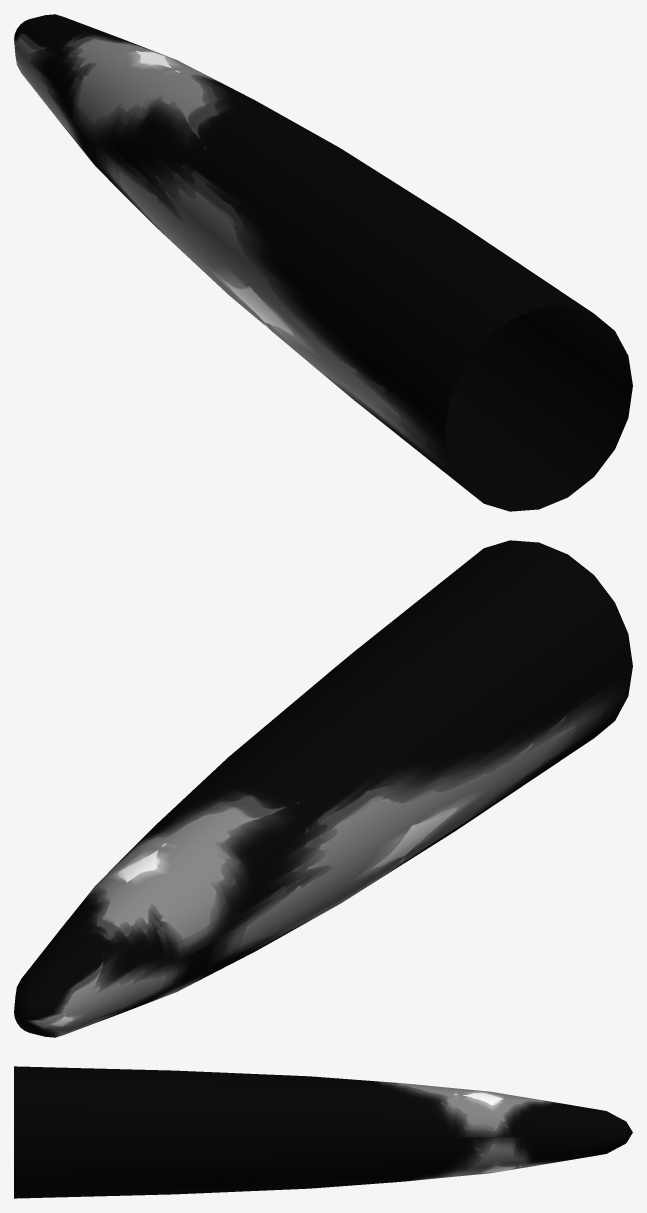
File: Md_Beam.fbx
3 views of the same model, one above another, from view 1: azimuth 30°, elevation 25°; view 2: azimuth 150°, elevation 25°; view 3: azimuth 270°, elevation 25° (orthographic). The views are drawn at different scales.
Visible parts, largest first — view 1: Md_Beam; view 2: Md_Beam; view 3: Md_Beam.
Boxes of the visible parts, <box> form: Md_Beam: <box>14,14,632,511</box>; Md_Beam: <box>14,540,632,1037</box>; Md_Beam: <box>14,1066,632,1198</box>.
Size of the model in its own units: 2.78 by 2.85 by 13.21.
